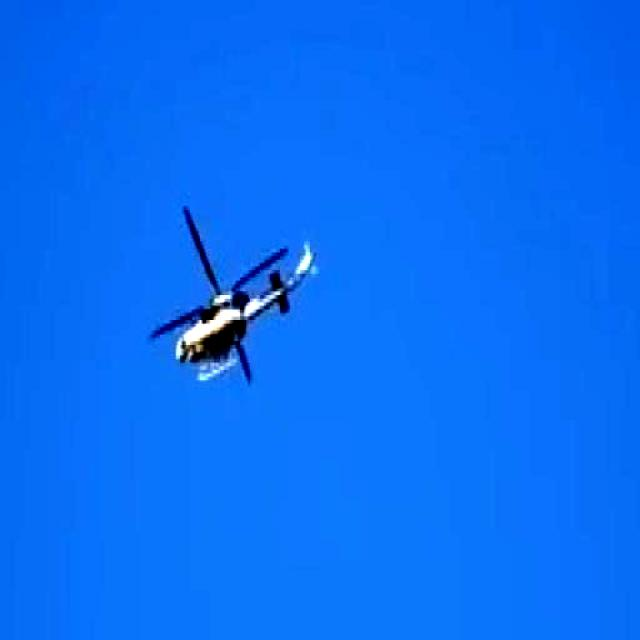drone: (146, 200, 319, 390)
